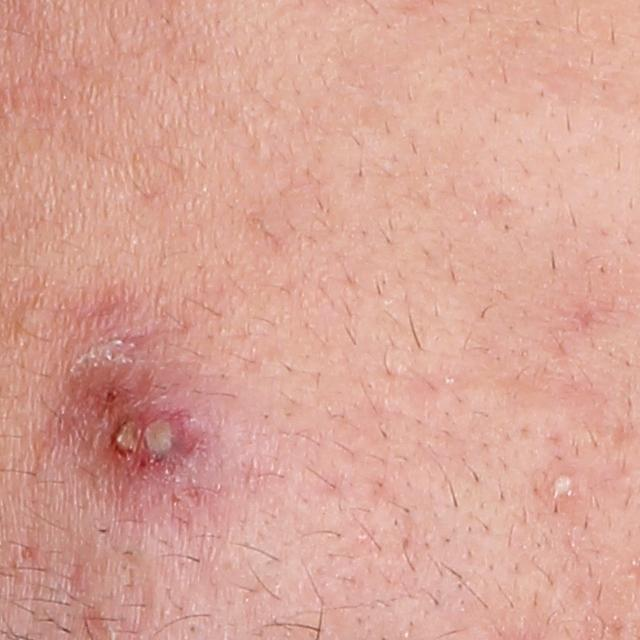comedo: (14, 299, 52, 337)
pustule: (544, 467, 582, 500)
